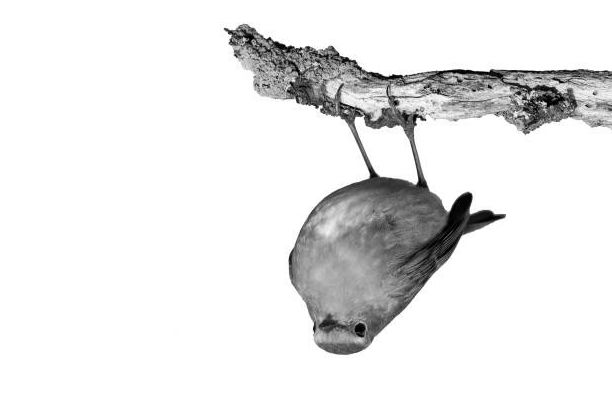Bird: (284, 74, 506, 357)
